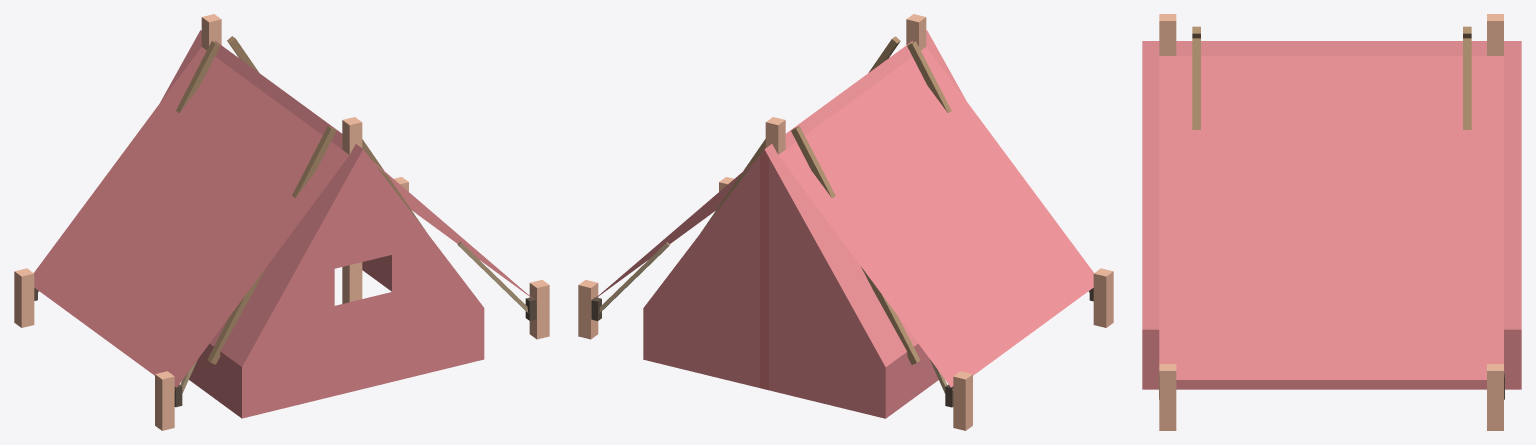
File: tent_detailedClosed.glb
The picture shows the model from 3 angles, left to right: view 1: azimuth 30°, elevation 25°; view 2: azimuth 150°, elevation 25°; view 3: azimuth 270°, elevation 25°; orthographic projection. The views are drawn at different scales.
Parts seen in each view (by area): view 1: tent_detailedClosed, Canvas_webbing_and_guylines; view 2: tent_detailedClosed, Canvas_webbing_and_guylines; view 3: tent_detailedClosed, Canvas_webbing_and_guylines.
Part boxes in pixels (x1,y1,x2,y2): tent_detailedClosed: (14,14,549,430); Canvas_webbing_and_guylines: (34,36,536,407); tent_detailedClosed: (578,14,1113,430); Canvas_webbing_and_guylines: (591,36,1093,407); tent_detailedClosed: (1142,14,1521,430); Canvas_webbing_and_guylines: (1159,26,1504,399).
Bounding box in the file's own units: 0.8749 × 0.5611 × 0.6364.
